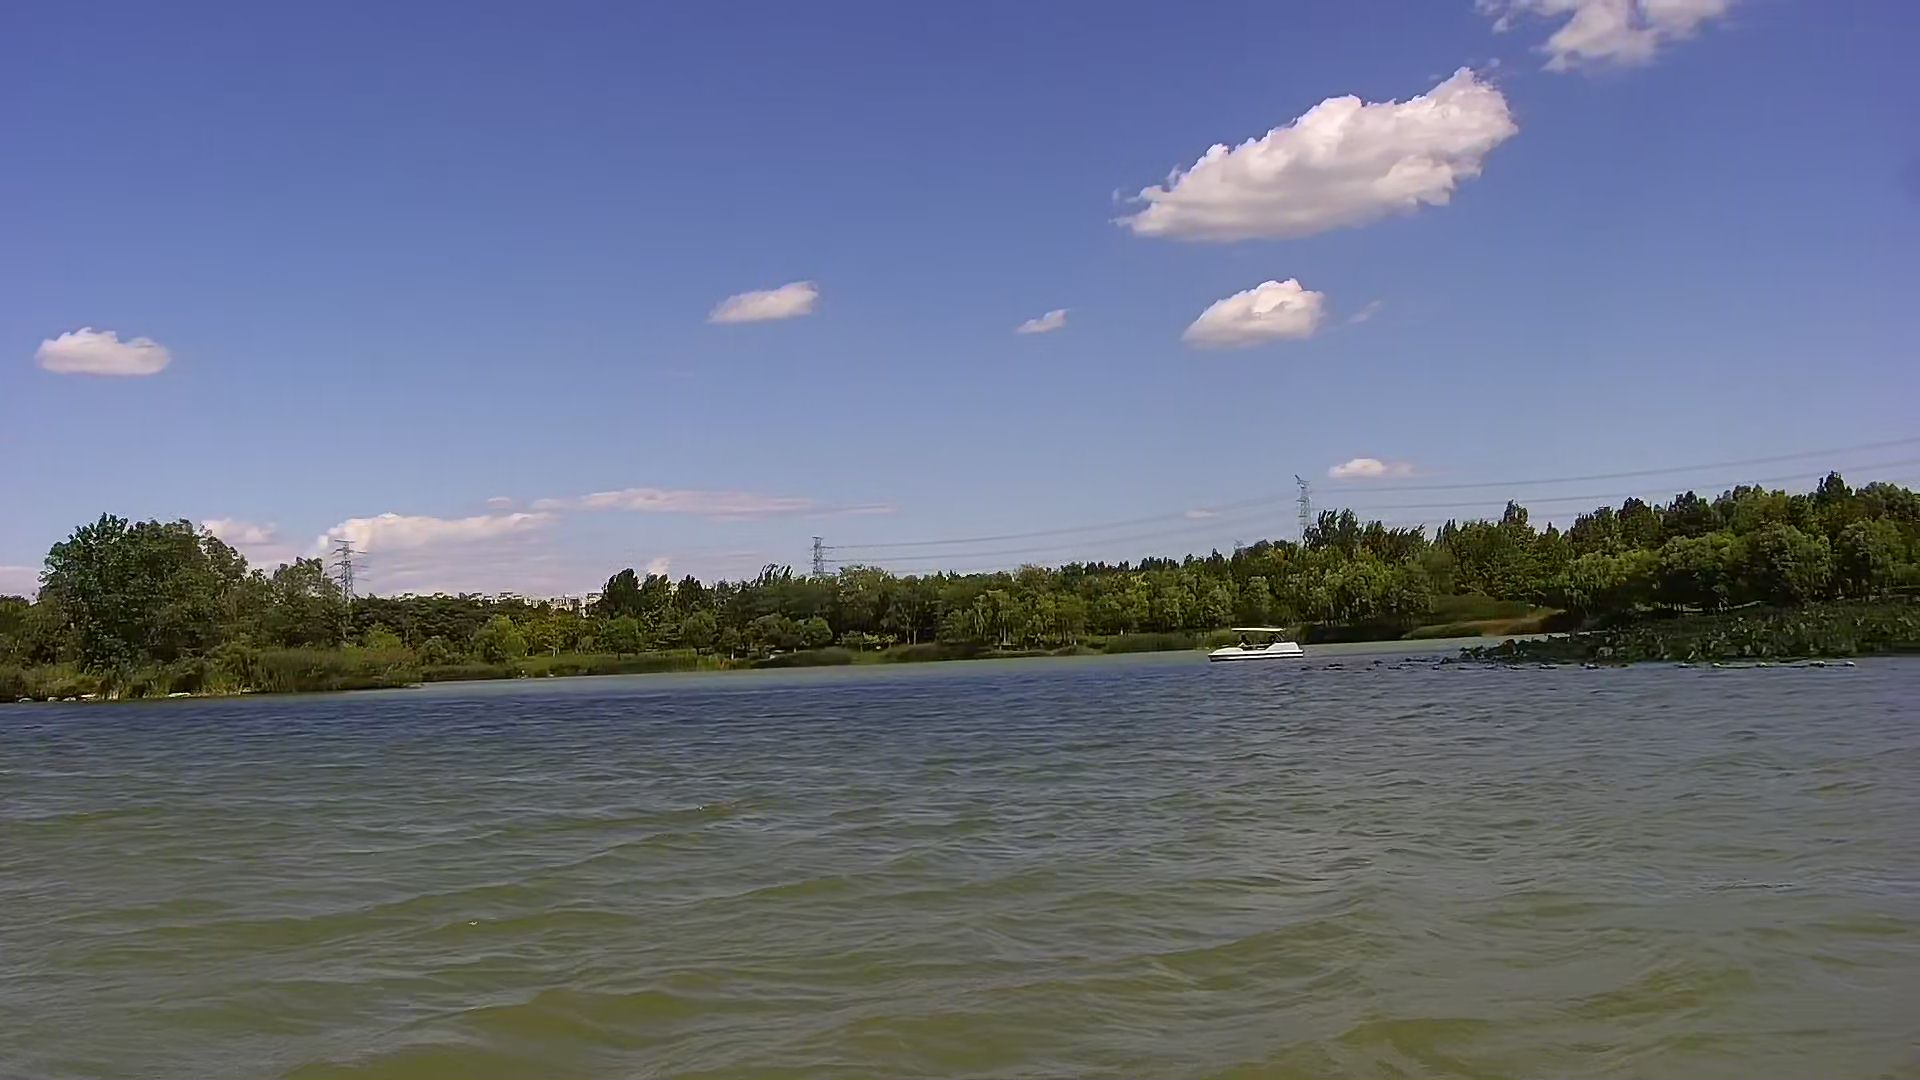boat: (1207, 626, 1309, 669)
